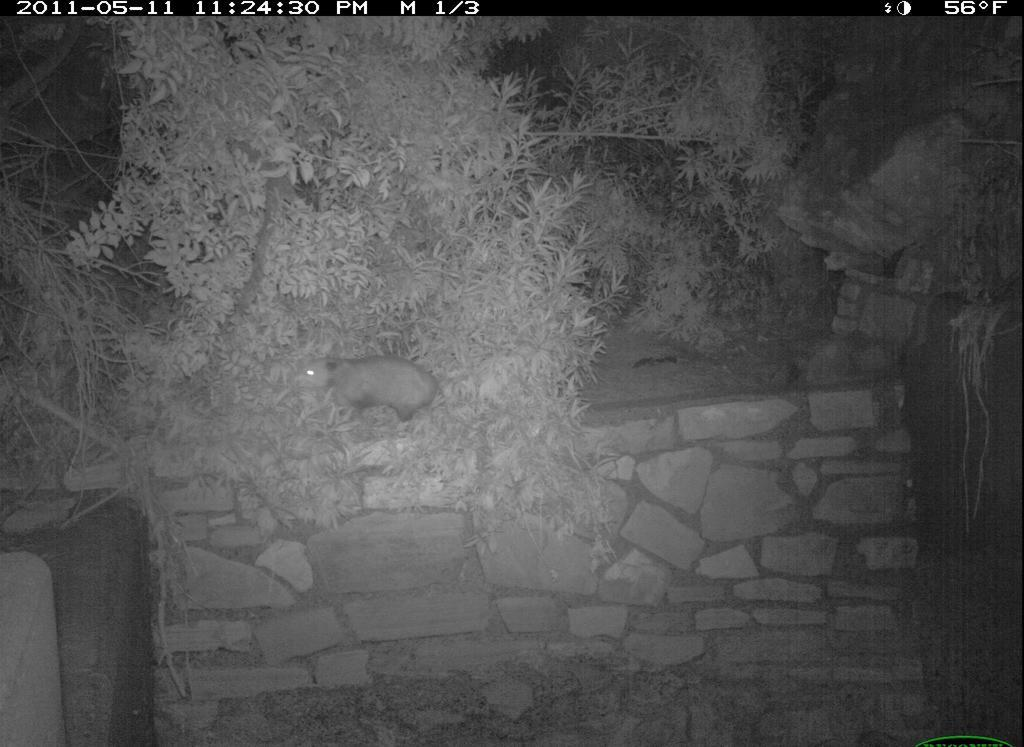opossum: (274, 333, 454, 434)
